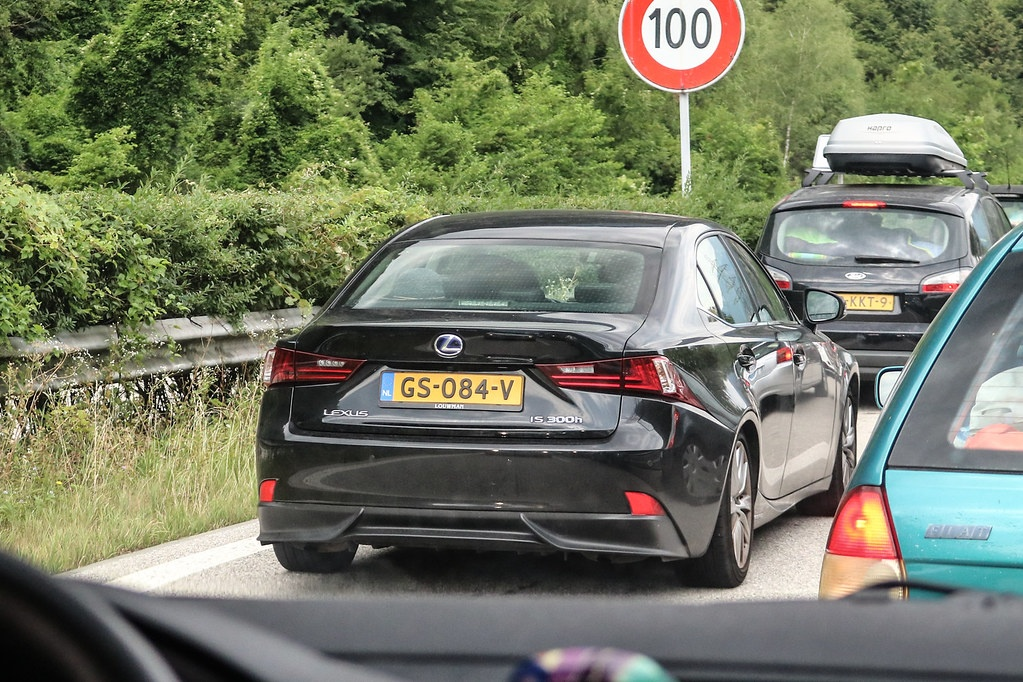number_plate: (373, 366, 528, 408)
